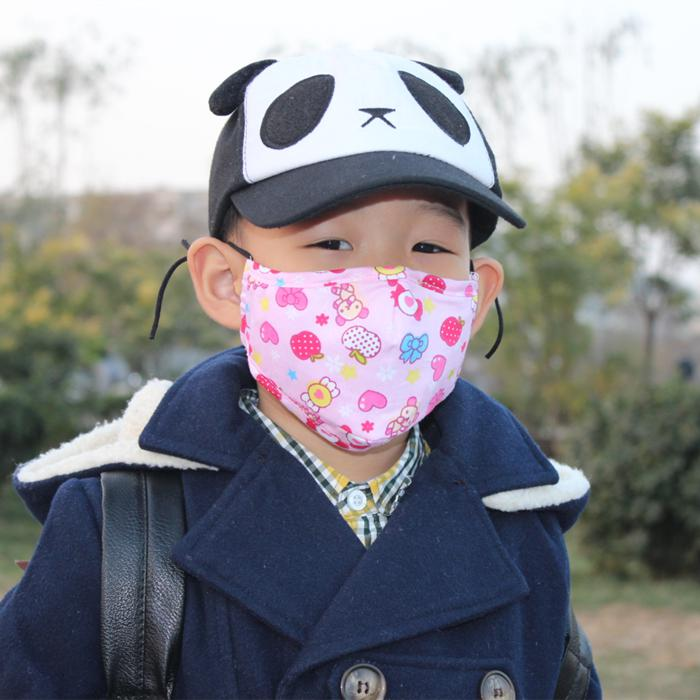OK: (235, 190, 482, 437)
